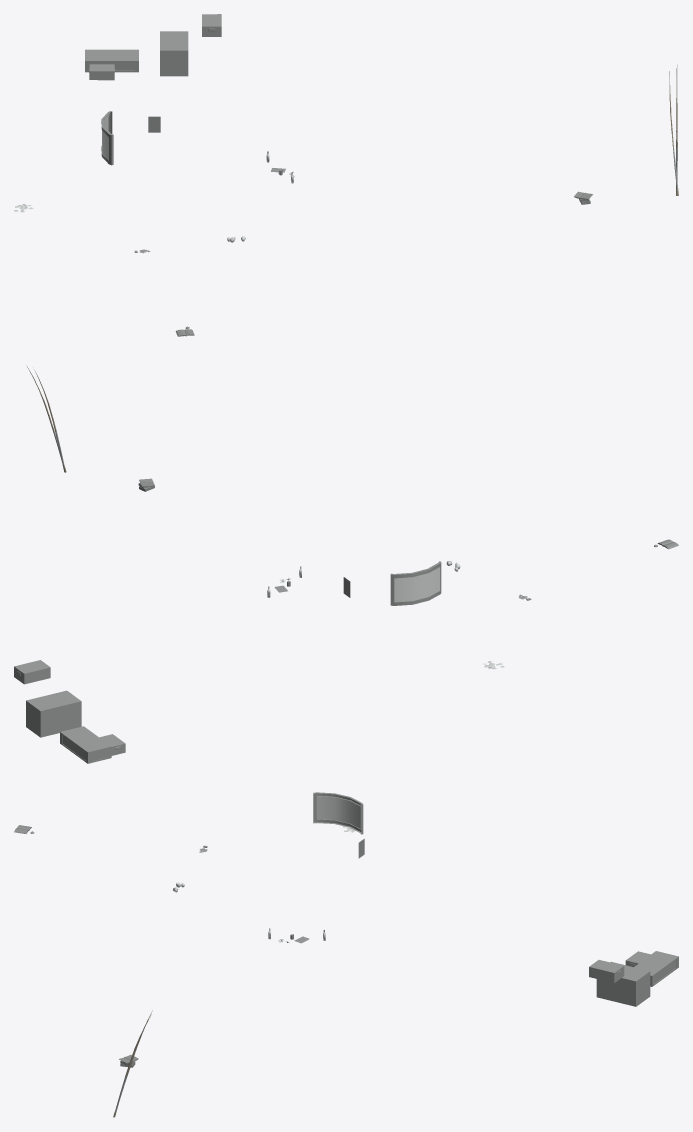
The picture shows the model from 3 angles, top to bottom: view 1: azimuth 30°, elevation 25°; view 2: azimuth 150°, elevation 25°; view 3: azimuth 270°, elevation 25°; orthographic projection. The views are drawn at different scales.
Visible parts, largest first — view 1: G:\FFXIV-MapTools\exports\s1f3\bg\ffxiv\sea_s1\fld\s1f3\bgpa (×2); view 2: G:\FFXIV-MapTools\exports\s1f3\bg\ffxiv\sea_s1\fld\s1f3\bgpa (×4); view 3: G:\FFXIV-MapTools\exports\s1f3\bg\ffxiv\sea_s1\fld\s1f3\bgpa (×4).
Part boxes in pixels (x1=…): G:\FFXIV-MapTools\exports\s1f3\bg\ffxiv\sea_s1\fld\s1f3\bgpa (×2): x1=85, y1=14, x2=678, y2=336; G:\FFXIV-MapTools\exports\s1f3\bg\ffxiv\sea_s1\fld\s1f3\bgpa (×4): x1=14, y1=400, x2=678, y2=763; G:\FFXIV-MapTools\exports\s1f3\bg\ffxiv\sea_s1\fld\s1f3\bgpa (×4): x1=14, y1=792, x2=678, y2=1111.
Size of the model in its own units: 19.81 by 3.82 by 20.38.
